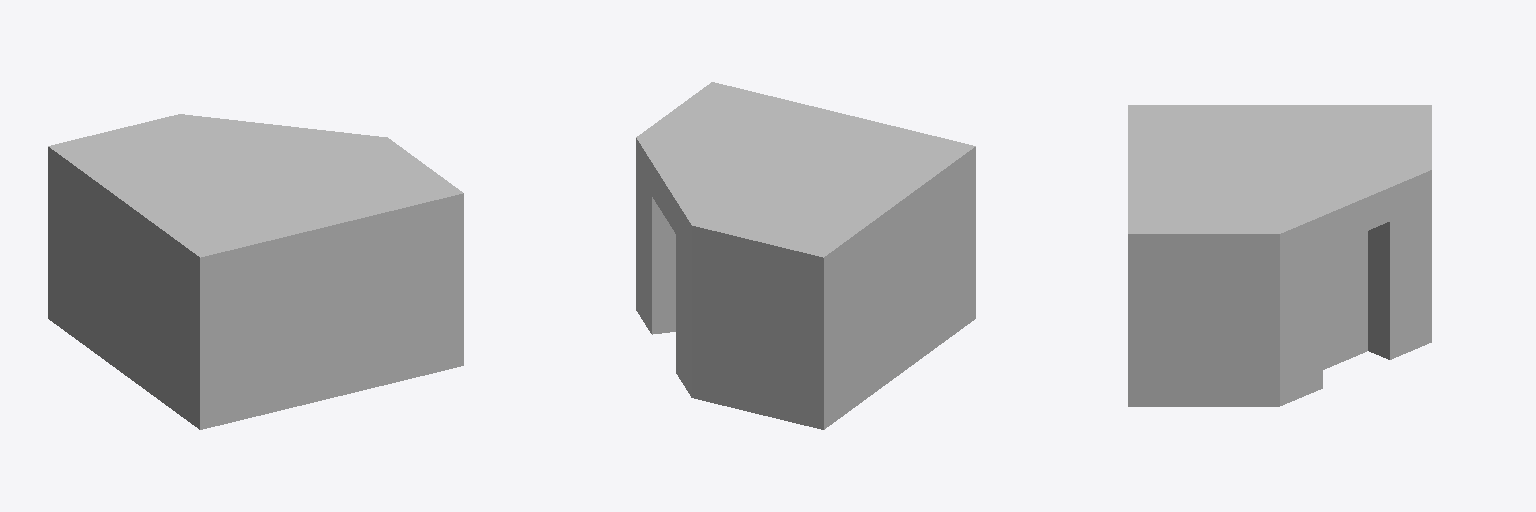
The model's file is building_037.obj.
3 renders of one model, left to right at view 1: azimuth 30°, elevation 25°; view 2: azimuth 150°, elevation 25°; view 3: azimuth 270°, elevation 25°, orthographic.
Visible parts, largest first — view 1: building_037; view 2: building_037; view 3: building_037.
Boxes of the visible parts, box(x1,y1,x2,y2) form: building_037: box(48, 114, 463, 429); building_037: box(636, 82, 975, 429); building_037: box(1128, 105, 1431, 406).
Bounding box in the file's own units: 1 × 0.625 × 1.